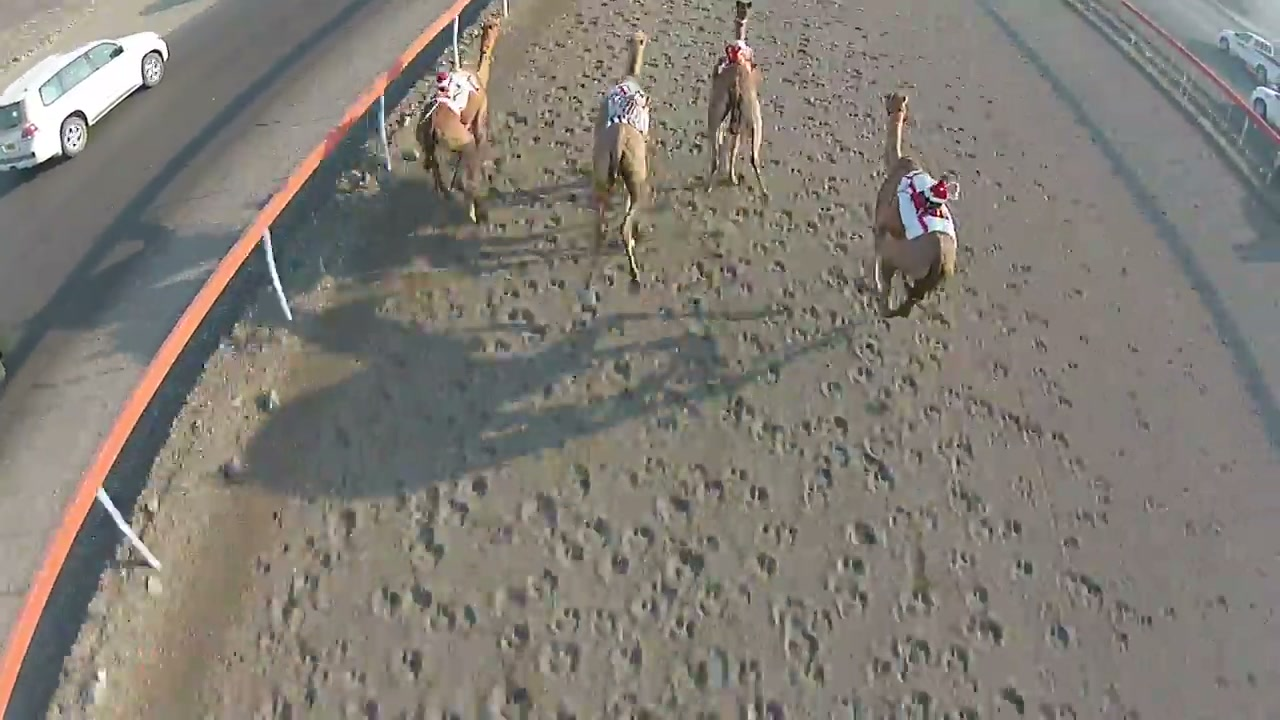animal_foot_print: (373, 133, 1084, 711)
